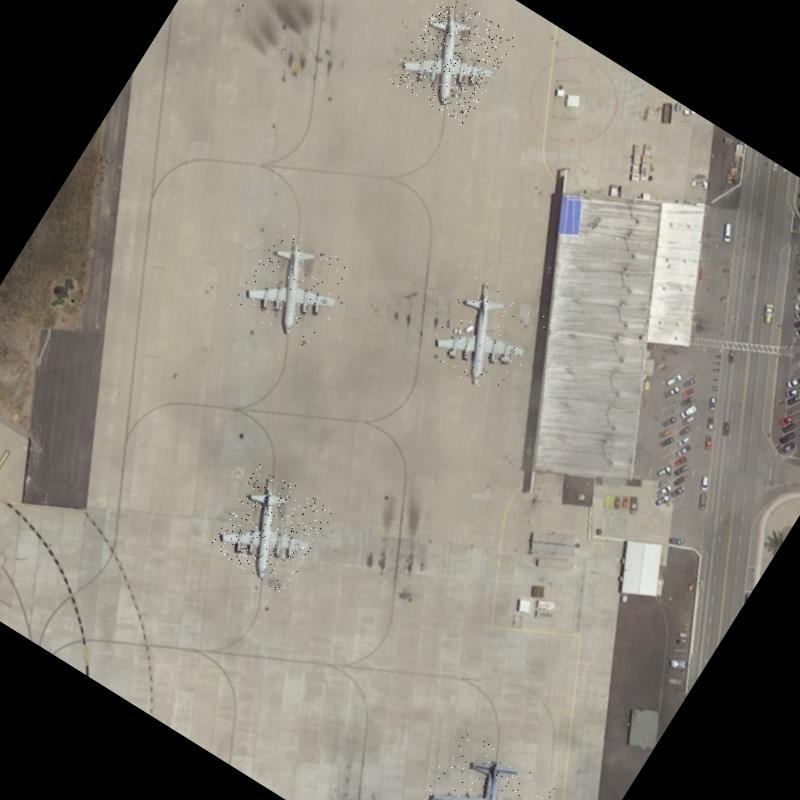A2: (411, 727, 569, 800)
A9: (230, 222, 360, 354), (206, 463, 336, 595), (422, 272, 552, 403), (387, 0, 519, 128)
